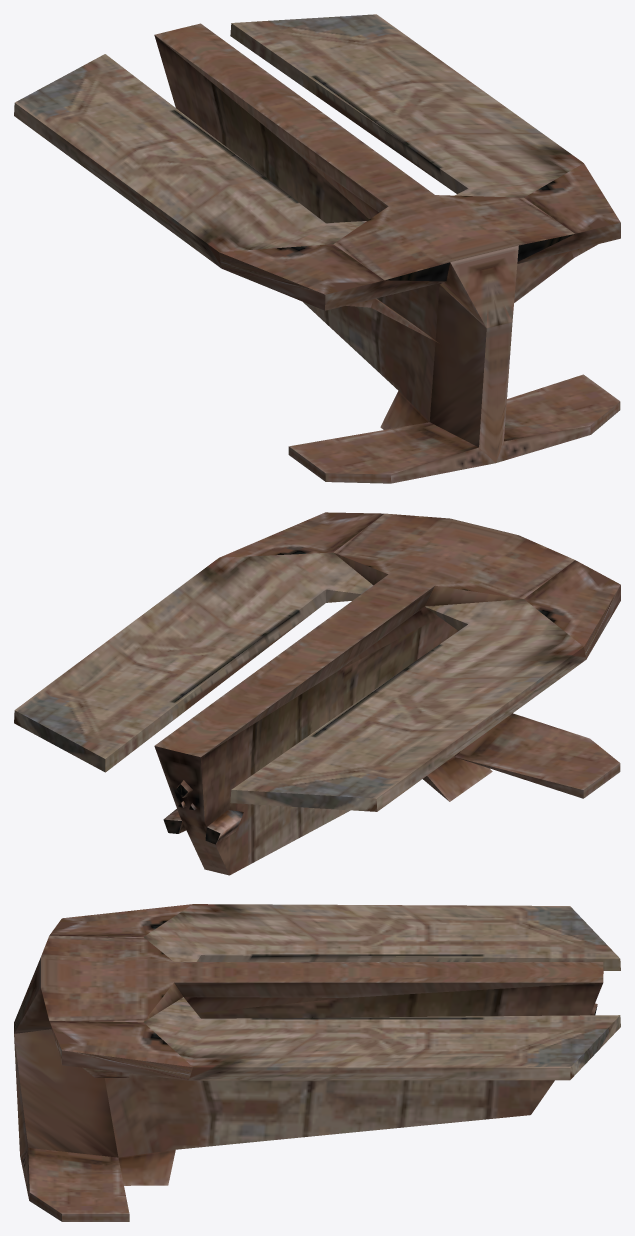
The model's file is merchant_cruiser_medium_l4.fbx.
The picture shows the model from 3 angles, top to bottom: view 1: azimuth 30°, elevation 25°; view 2: azimuth 150°, elevation 25°; view 3: azimuth 270°, elevation 25°; orthographic projection. The views are drawn at different scales.
Parts seen in each view (by area): view 1: mesh_node; view 2: mesh_node; view 3: mesh_node.
Part boxes in pixels (box(x1,y1,x2,y2)): mesh_node: box(14, 14, 620, 483); mesh_node: box(14, 512, 620, 875); mesh_node: box(14, 904, 620, 1221).
Size of the model in its own units: 63.34 by 35.84 by 99.59.
